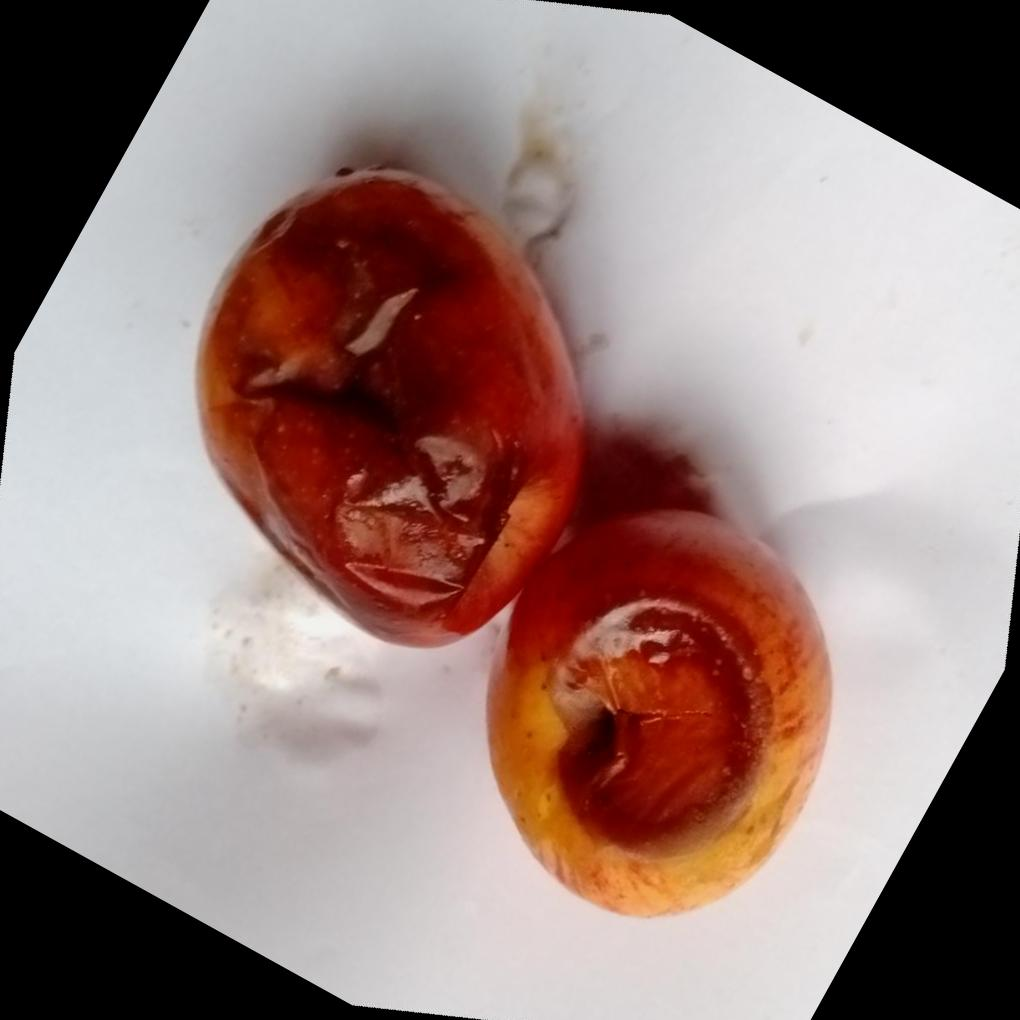FreshOrange: (193, 169, 833, 922)
